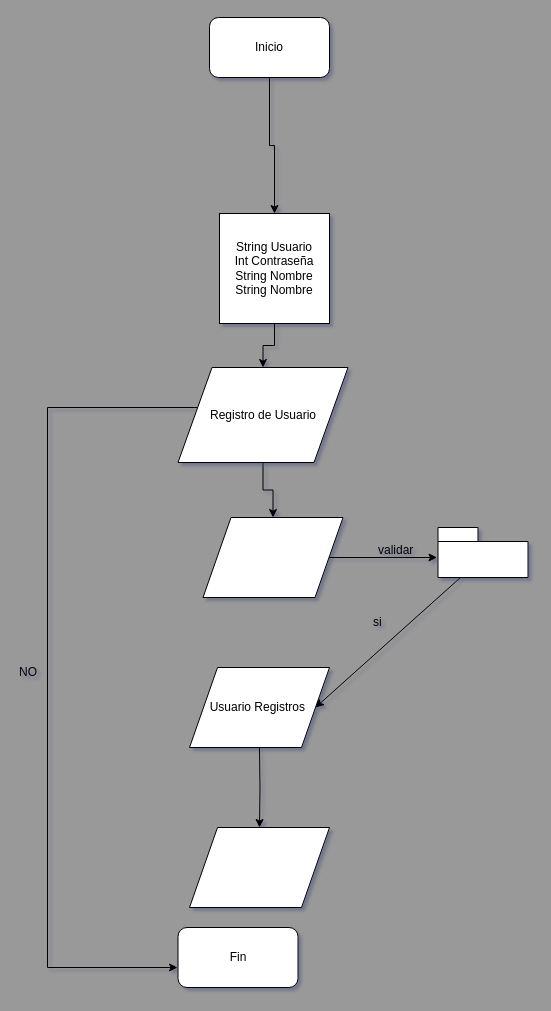
This 551x1011 diagram has some shape labels left out. Here are the shapes that lost their labels. From the top down, the box of each, then its label:
(202, 516, 343, 598): Mantenimiento de Usuarios
(437, 526, 528, 578): Administrador
(188, 826, 330, 908): Mantenimientos
